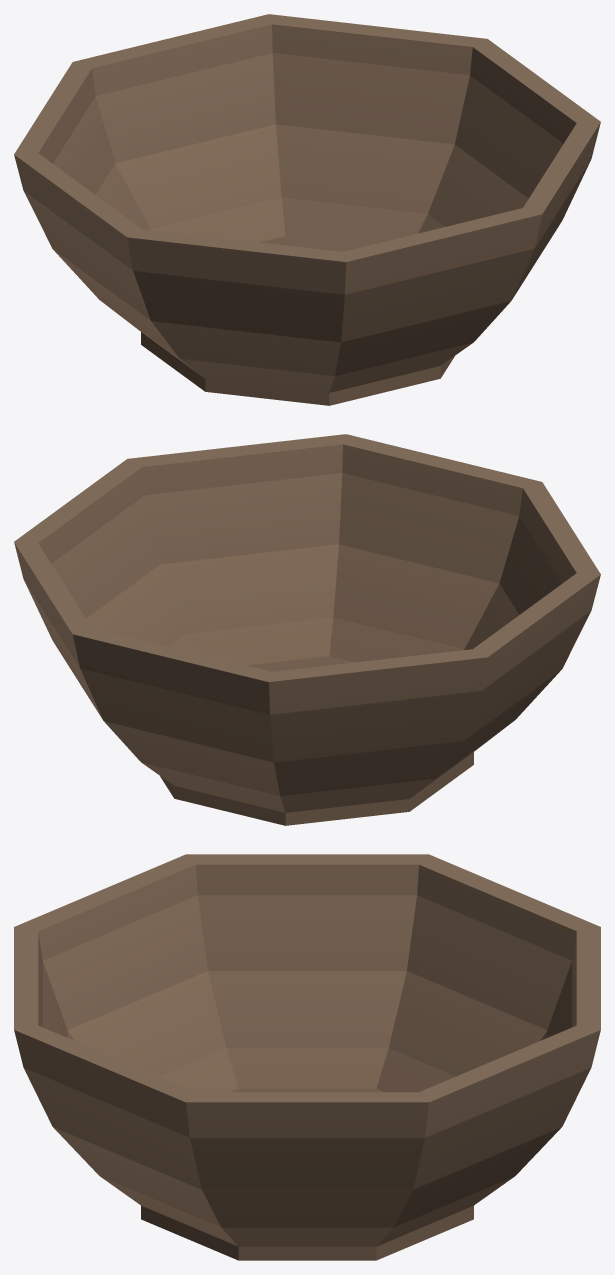
File: Plate5_C5.fbx
3 views of the same model, one above another, from view 1: azimuth 30°, elevation 25°; view 2: azimuth 150°, elevation 25°; view 3: azimuth 270°, elevation 25° (orthographic). The views are drawn at different scales.
Visible parts, largest first — view 1: Plate5_C5; view 2: Plate5_C5; view 3: Plate5_C5.
Part boxes in pixels (<box>): Plate5_C5: <box>14,14,600,405</box>; Plate5_C5: <box>14,434,600,825</box>; Plate5_C5: <box>14,854,600,1260</box>.
Size of the model in its own units: 23.87 by 9.51 by 23.87.
